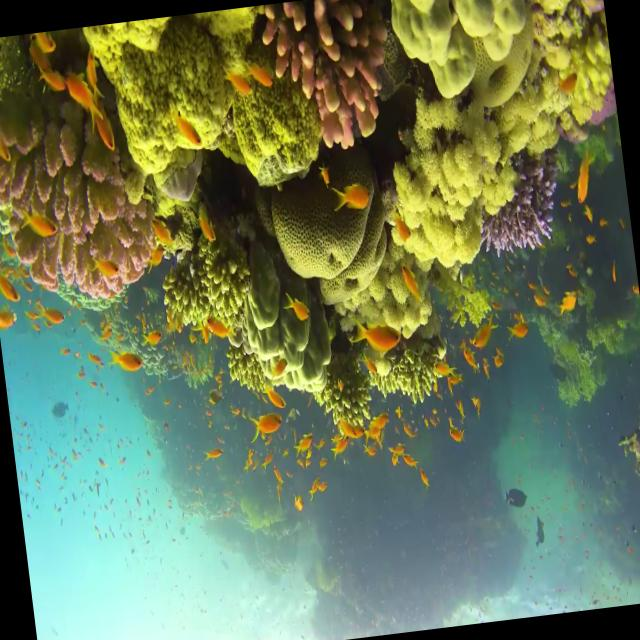fish: (332, 304, 409, 372), (165, 94, 212, 164), (324, 166, 375, 230), (566, 140, 609, 208), (11, 198, 63, 248), (240, 49, 294, 93), (224, 62, 272, 110), (68, 66, 104, 125), (145, 208, 185, 258), (550, 276, 584, 331), (31, 60, 68, 109), (105, 345, 148, 386), (277, 282, 311, 332), (93, 115, 126, 166), (248, 413, 286, 452), (527, 270, 559, 314), (260, 382, 290, 424), (0, 267, 27, 313), (38, 298, 71, 334), (195, 202, 219, 250), (501, 311, 535, 344), (136, 321, 168, 356), (91, 254, 127, 284), (32, 30, 58, 70), (444, 416, 468, 455), (0, 302, 24, 337), (285, 486, 309, 520), (198, 439, 228, 466), (84, 344, 110, 374)
